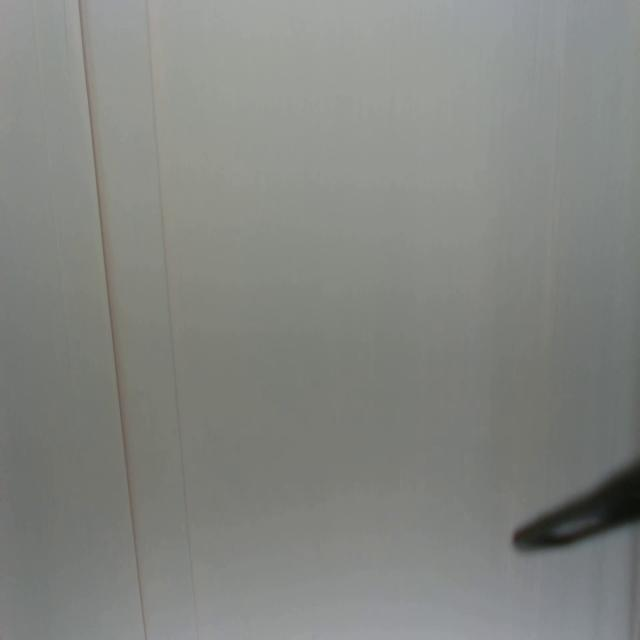crease: (32, 0, 104, 637), (78, 0, 148, 635), (147, 0, 200, 640)
